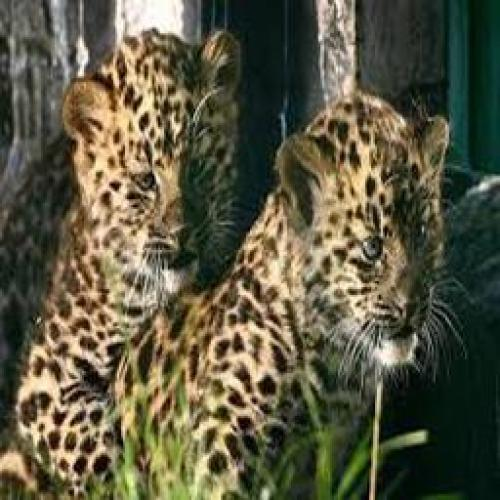amur_leopard-endangered: (115, 94, 454, 500), (0, 31, 241, 500)
